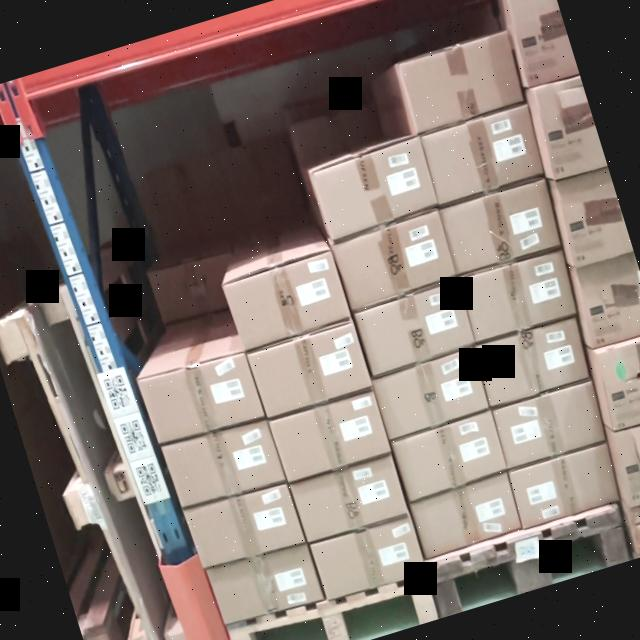box: (396, 30, 528, 136), (418, 106, 548, 210), (136, 347, 268, 449), (220, 253, 350, 352), (266, 383, 392, 484), (159, 412, 284, 512), (369, 344, 492, 439), (184, 478, 308, 570), (248, 323, 370, 415), (442, 182, 561, 276), (316, 142, 436, 235), (458, 247, 578, 340), (333, 216, 454, 308), (476, 314, 591, 408), (204, 540, 326, 628), (356, 282, 474, 372), (409, 475, 526, 563), (290, 456, 410, 540), (312, 516, 424, 602), (496, 386, 612, 469), (390, 414, 502, 494), (511, 448, 621, 524)
